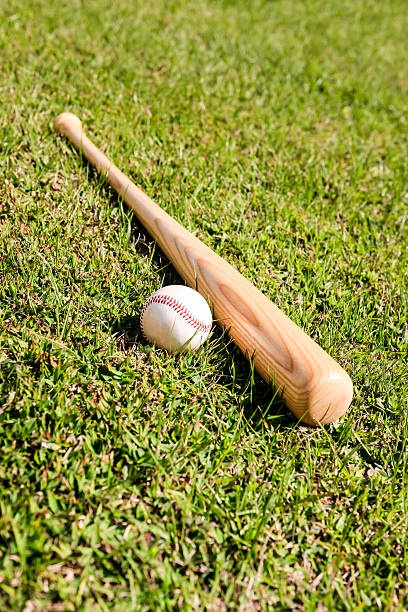bita: (49, 106, 345, 427)
